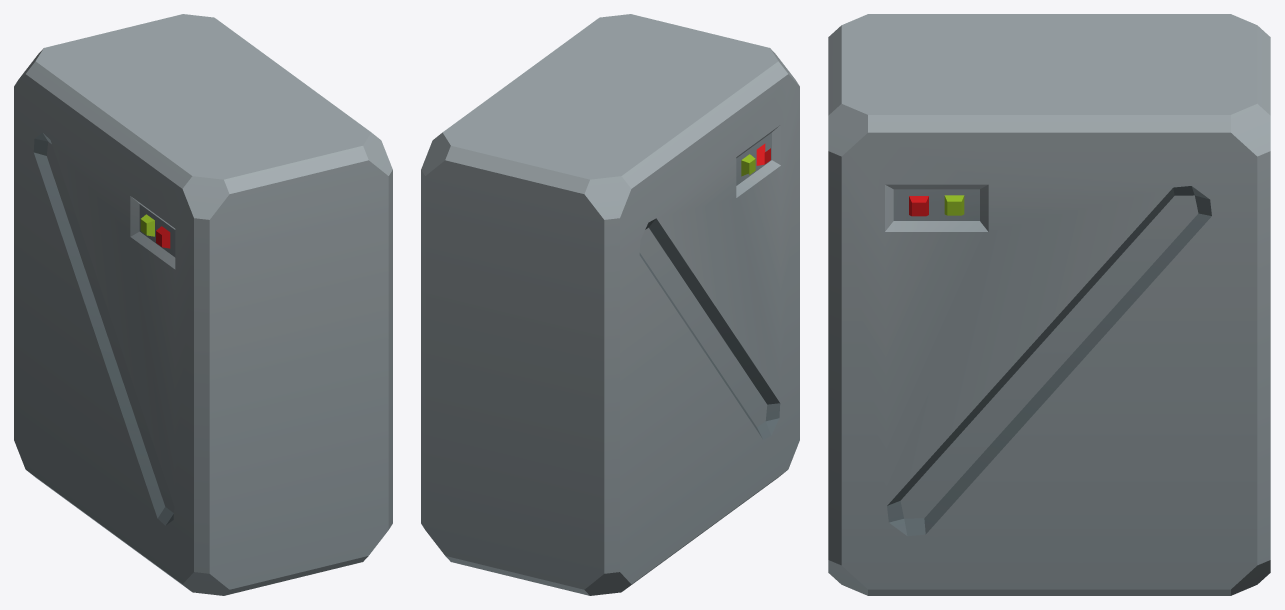
Rendered from Delivery_drone_006_crate_001.fbx.
The picture shows the model from 3 angles, left to right: view 1: azimuth 30°, elevation 25°; view 2: azimuth 150°, elevation 25°; view 3: azimuth 270°, elevation 25°; orthographic projection. The views are drawn at different scales.
Parts seen in each view (by area): view 1: Delivery_drone_006_crate_001; view 2: Delivery_drone_006_crate_001; view 3: Delivery_drone_006_crate_001.
Boxes of the visible parts, x1,y1,x2,y2 form: Delivery_drone_006_crate_001: [14, 14, 392, 595]; Delivery_drone_006_crate_001: [421, 14, 799, 595]; Delivery_drone_006_crate_001: [828, 14, 1270, 595].
Size of the model in its own units: 30.44 by 50 by 60.
